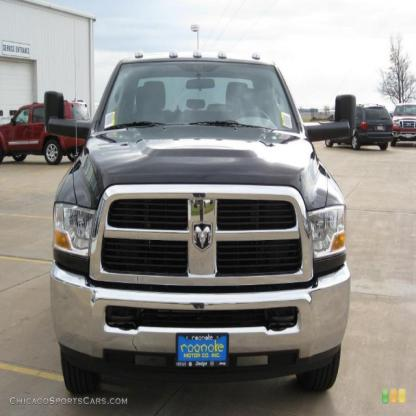car: (50, 26, 341, 410), (1, 96, 100, 167), (306, 98, 396, 152), (393, 105, 416, 147)
